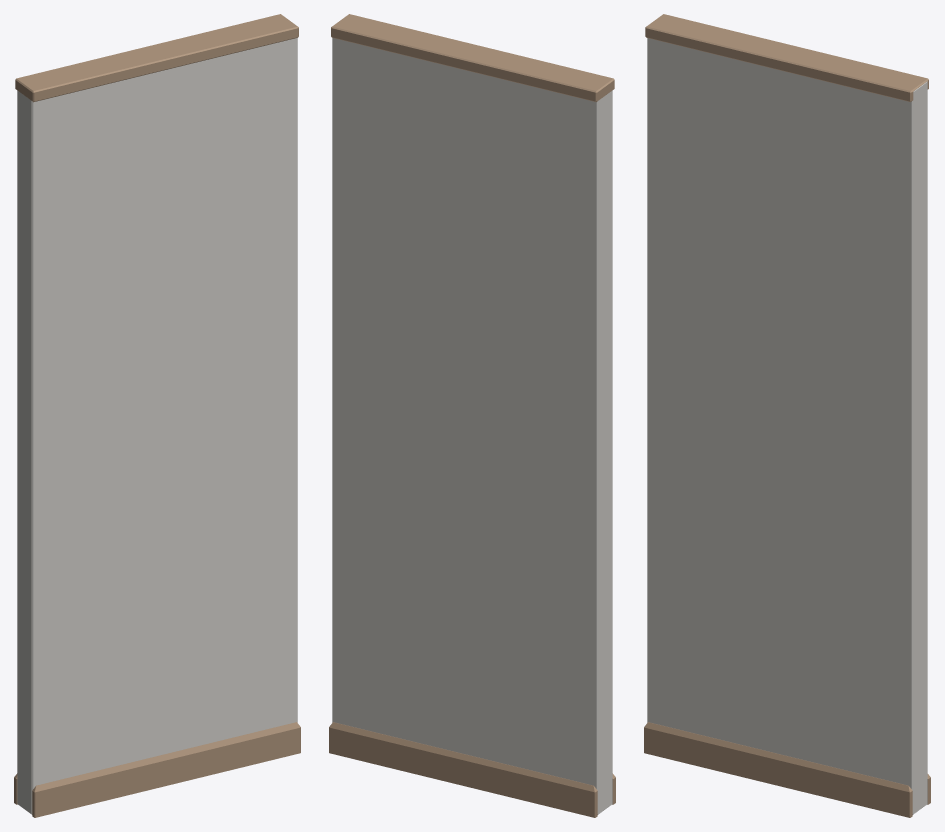
File: partition-wall-module.glb
3 views of the same model, side by side, from view 1: azimuth 30°, elevation 25°; view 2: azimuth 150°, elevation 25°; view 3: azimuth 330°, elevation 25° (orthographic).
Parts seen in each view (by area): view 1: partition-wall-module; view 2: partition-wall-module; view 3: partition-wall-module.
Part boxes in pixels (x1,y1,x2,y2): partition-wall-module: (14,14,300,817); partition-wall-module: (329,14,615,817); partition-wall-module: (644,14,930,817).
Bounding box in the file's own units: 1 × 2.6 × 0.1359.
